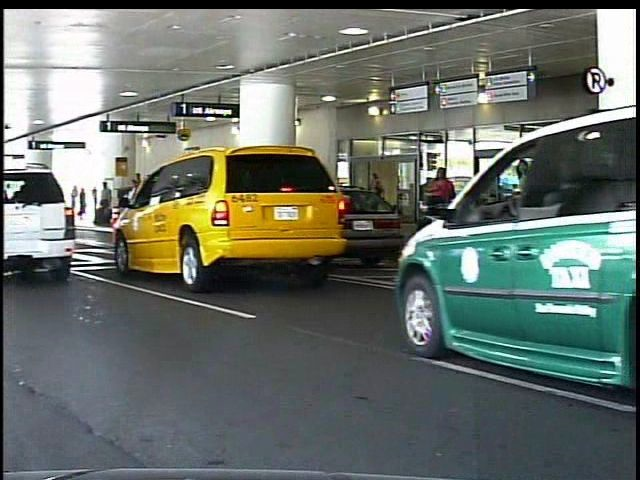person: (429, 166, 462, 252), (367, 170, 390, 231), (101, 179, 118, 230), (81, 186, 91, 220)
